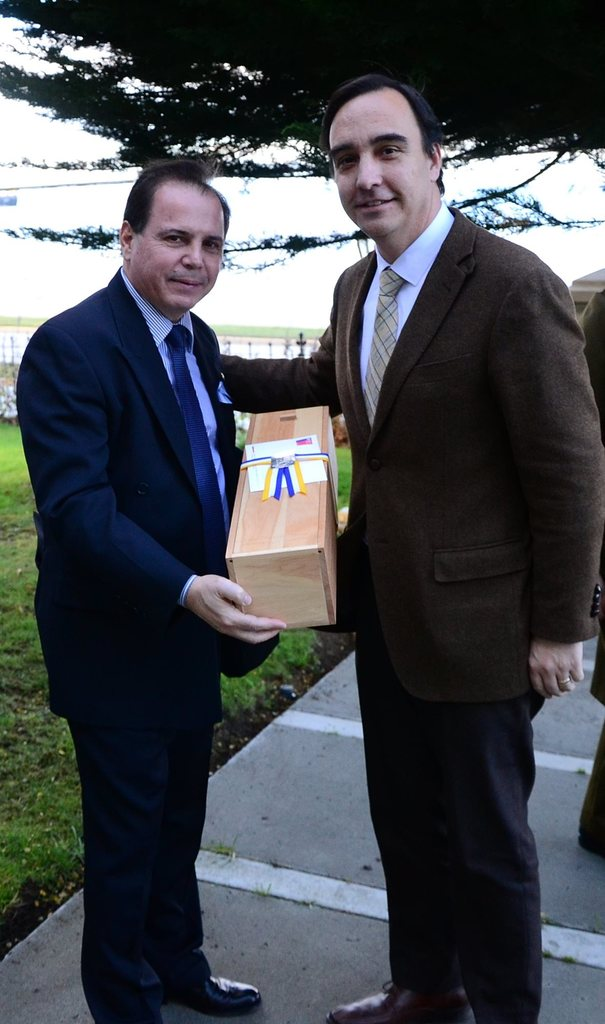Tree: (0, 0, 604, 266)
